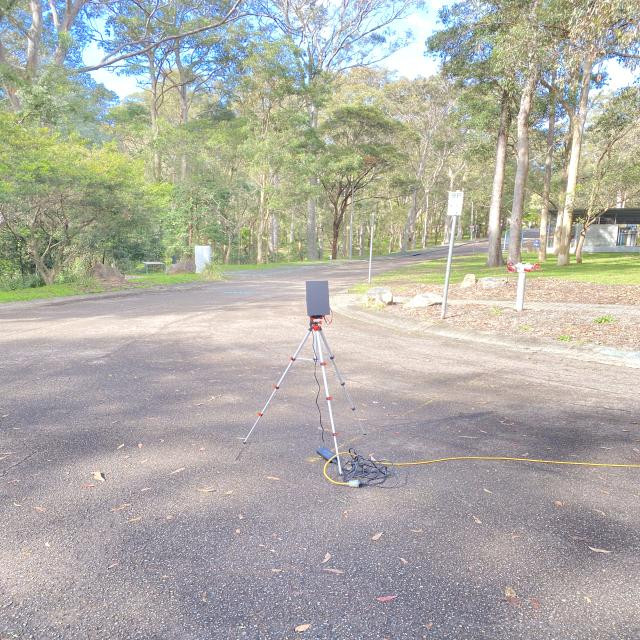matrix: (304, 280, 333, 316)
